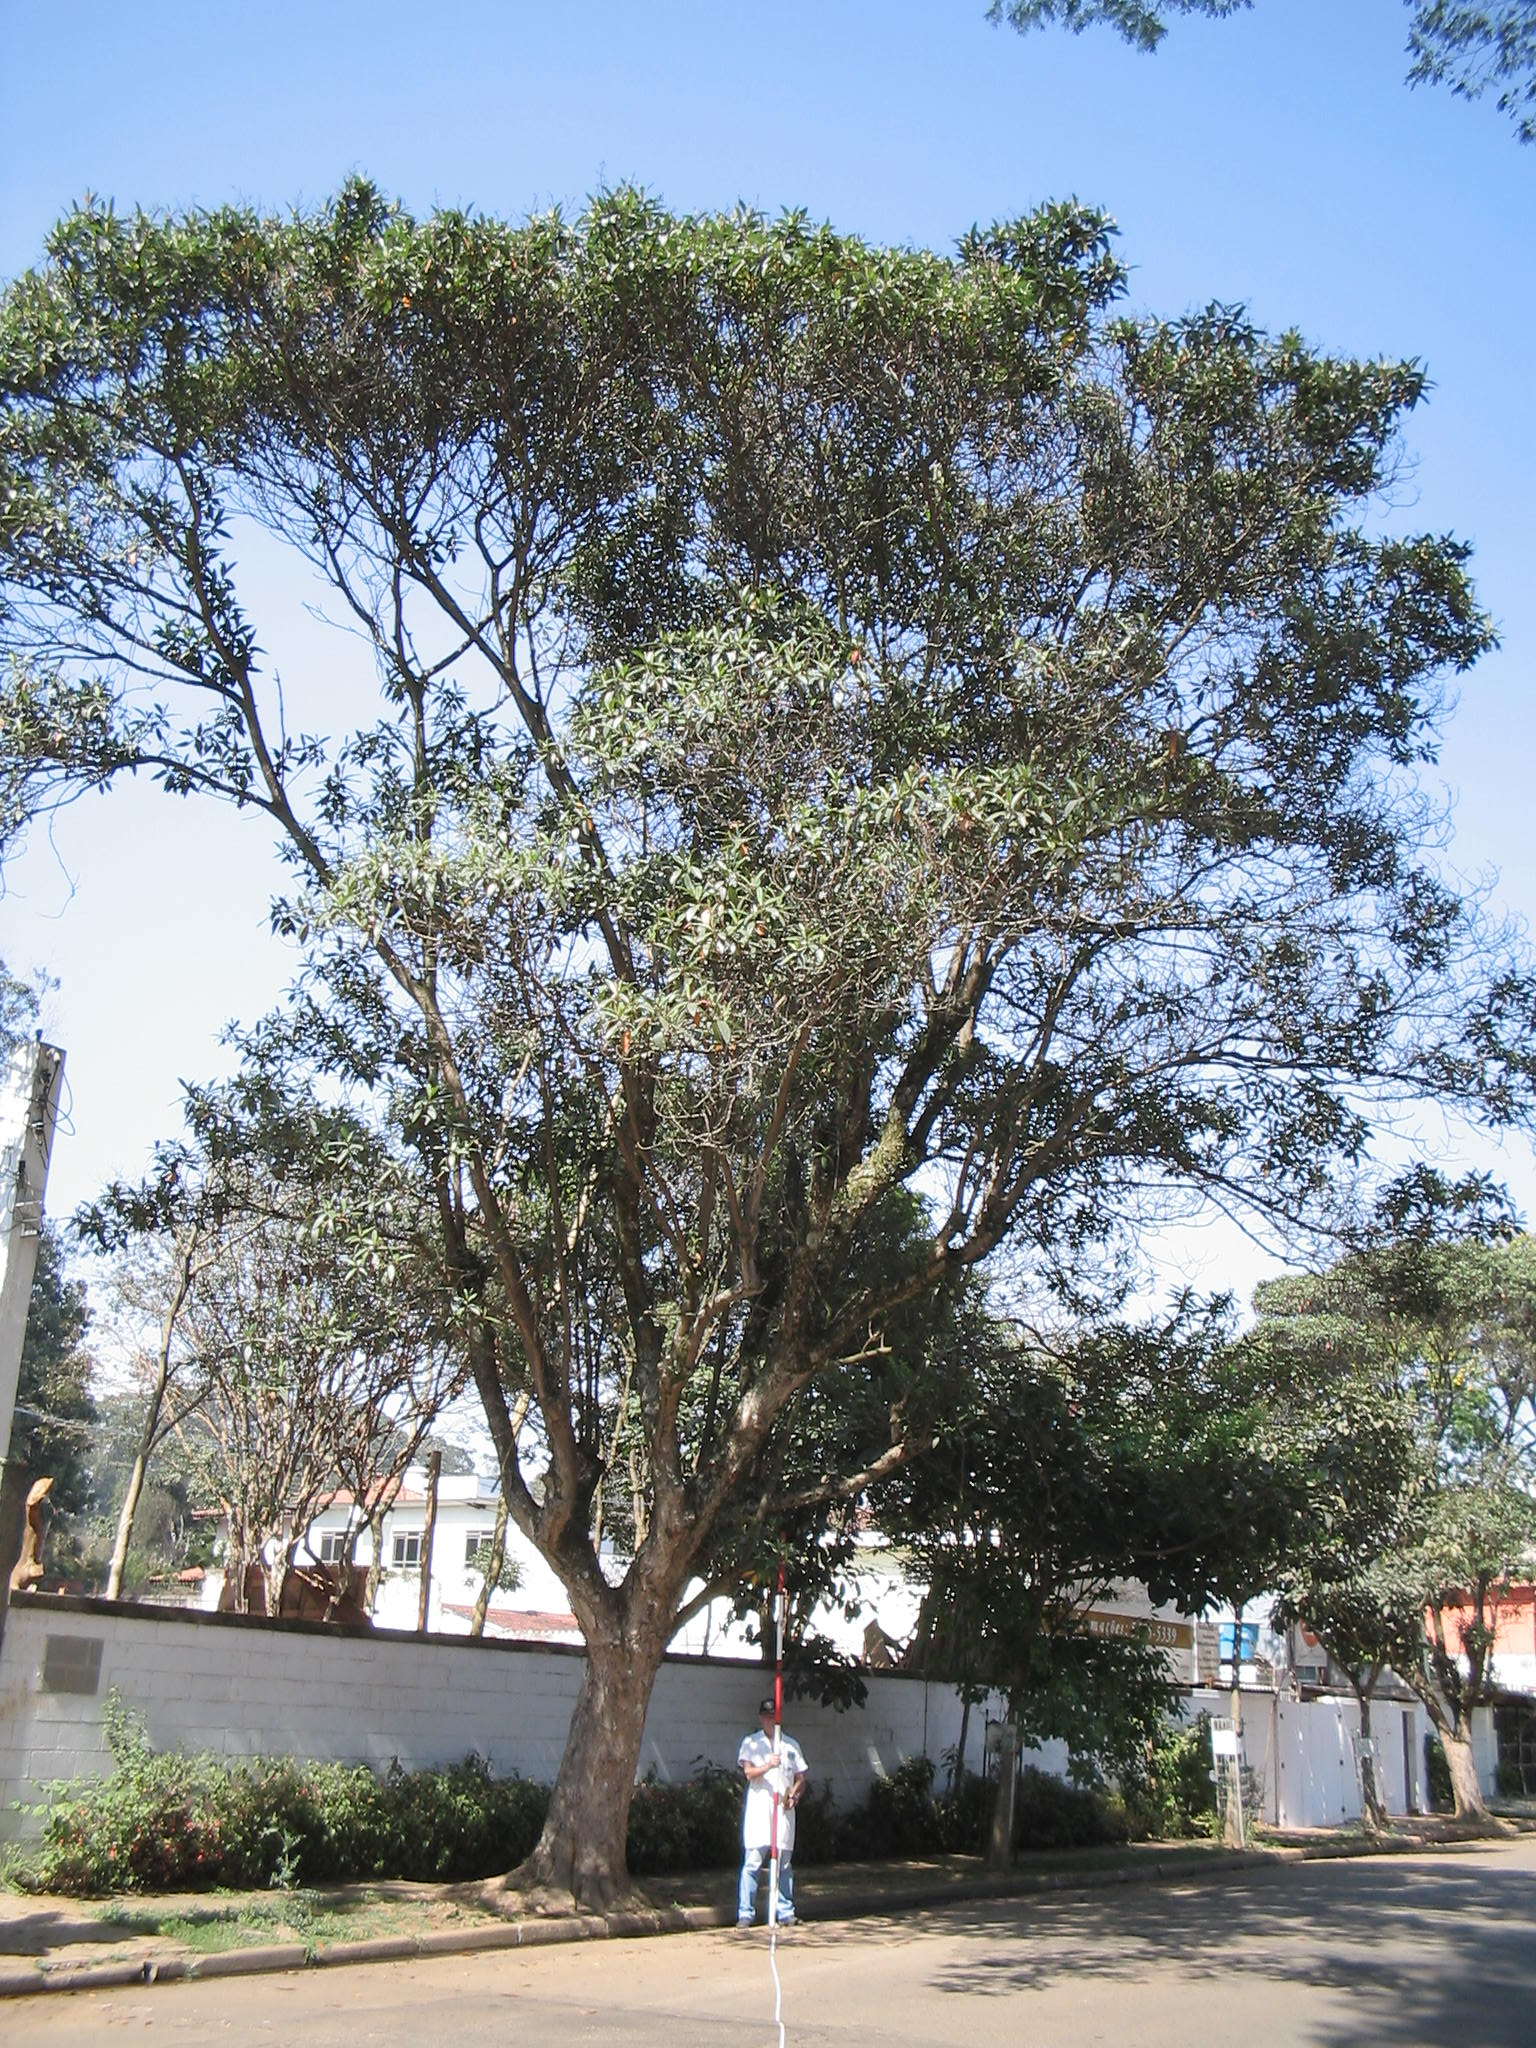crown: (11, 171, 1525, 1445)
stem: (487, 1617, 708, 1913)
stick: (734, 1529, 812, 1945)
tree: (3, 171, 1528, 1917), (1241, 1250, 1520, 1832)
